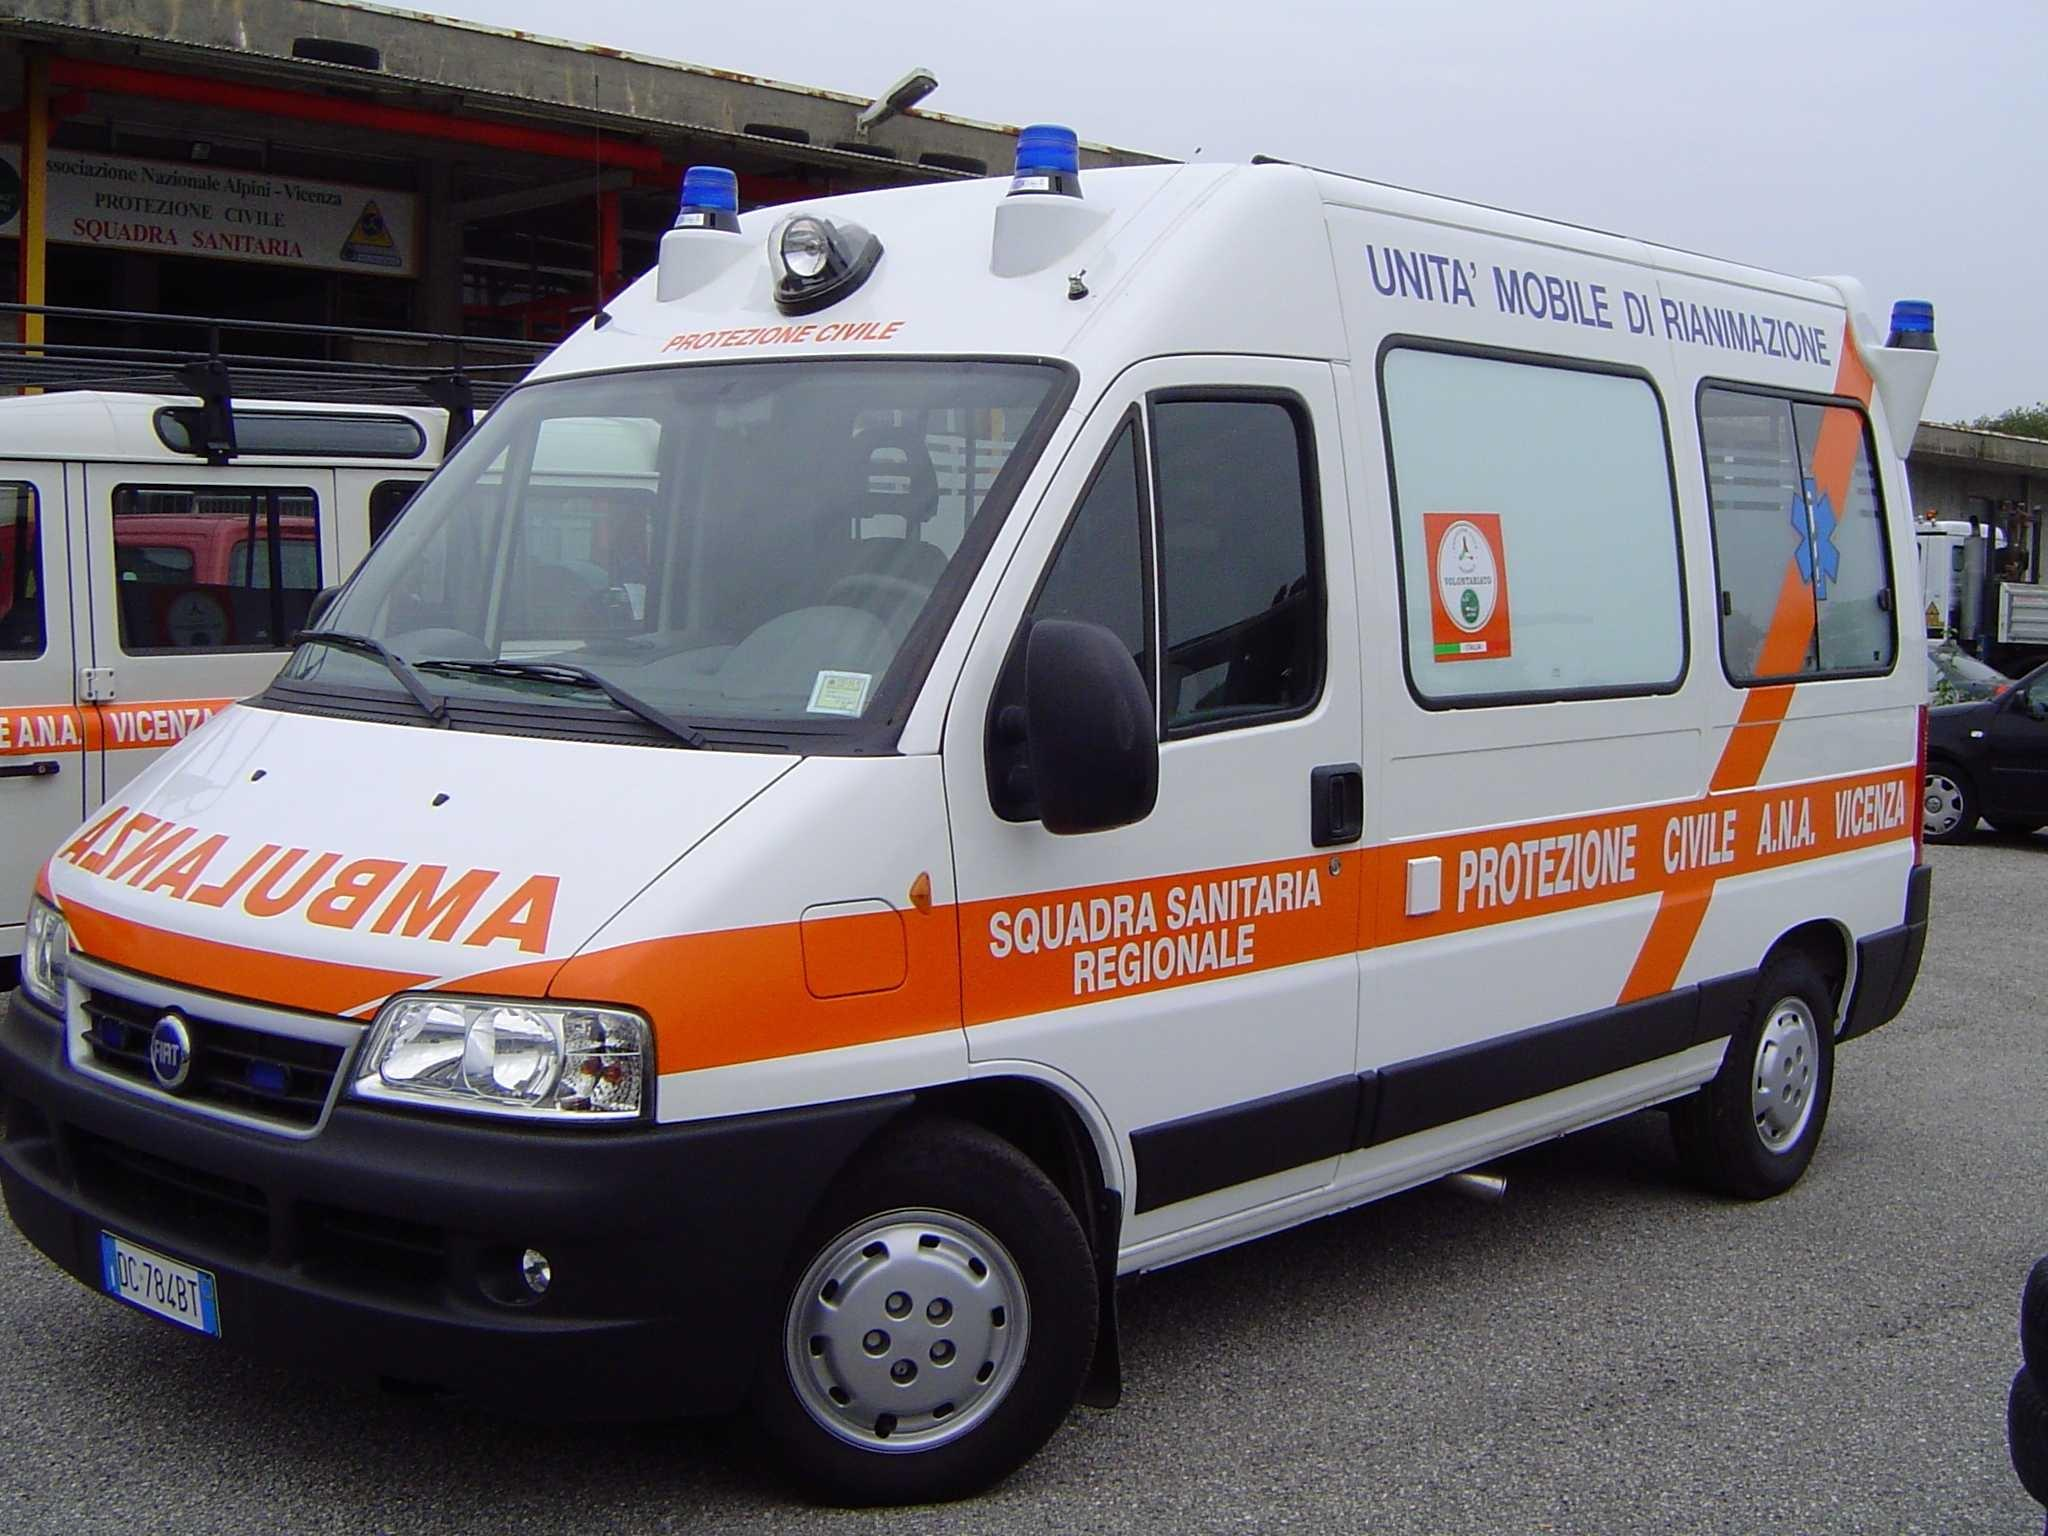car: (2, 118, 1945, 1505)
